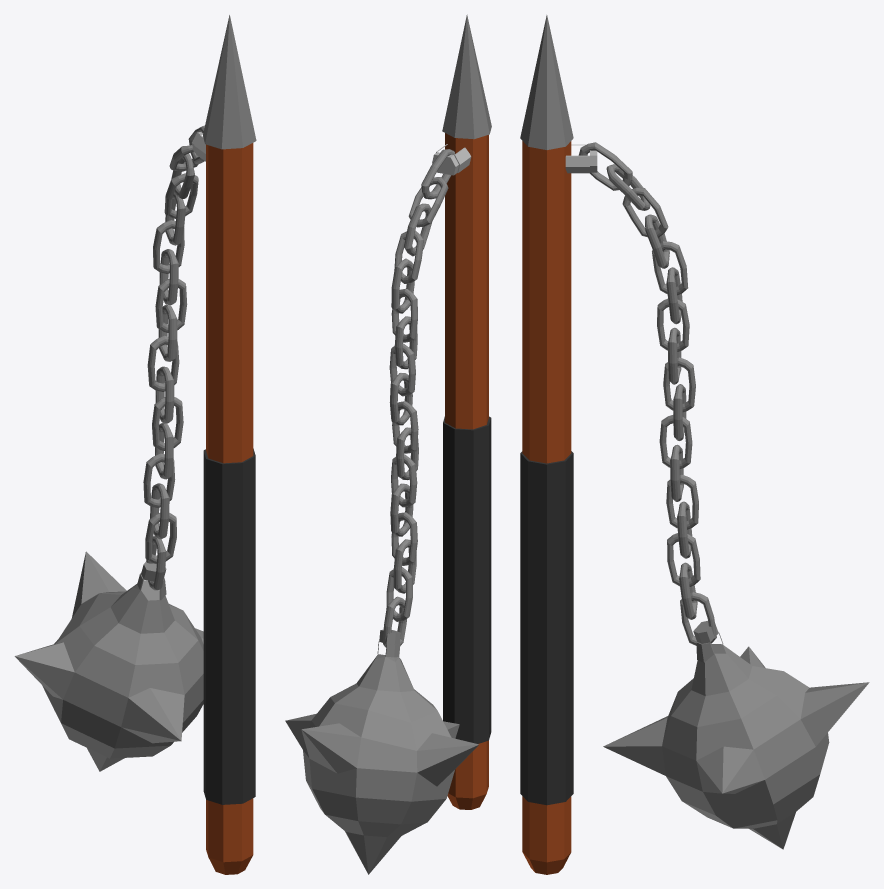
Rendered from Flail.glb.
The picture shows the model from 3 angles, left to right: view 1: azimuth 30°, elevation 25°; view 2: azimuth 150°, elevation 25°; view 3: azimuth 270°, elevation 25°; orthographic projection. The views are drawn at different scales.
Visible parts, largest first — view 1: Chain1; view 2: Chain1; view 3: Chain1.
Part boxes in pixels (box(x1,y1,x2,y2)): Chain1: box(14, 15, 256, 874); Chain1: box(285, 14, 491, 874); Chain1: box(520, 15, 869, 874).
Bounding box in the file's own units: 0.0792 × 0.2894 × 0.1073.
